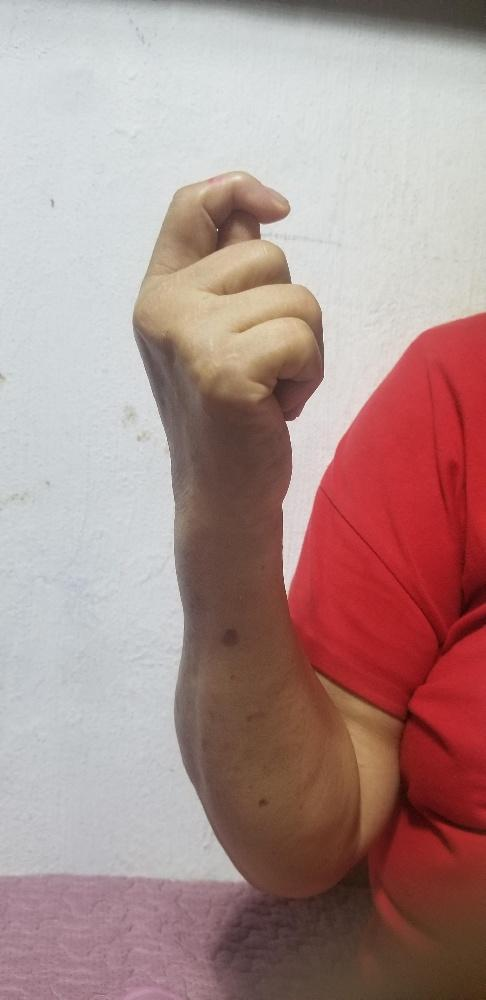t: (129, 168, 324, 505)
